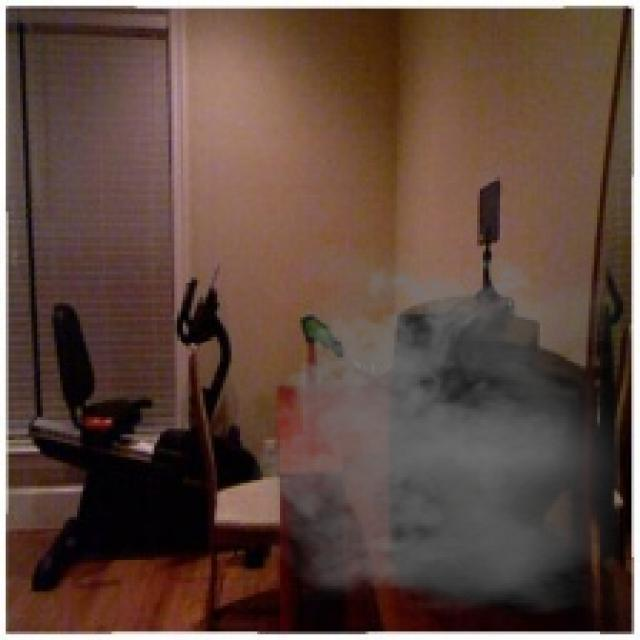Smoke: (240, 246, 620, 614)
